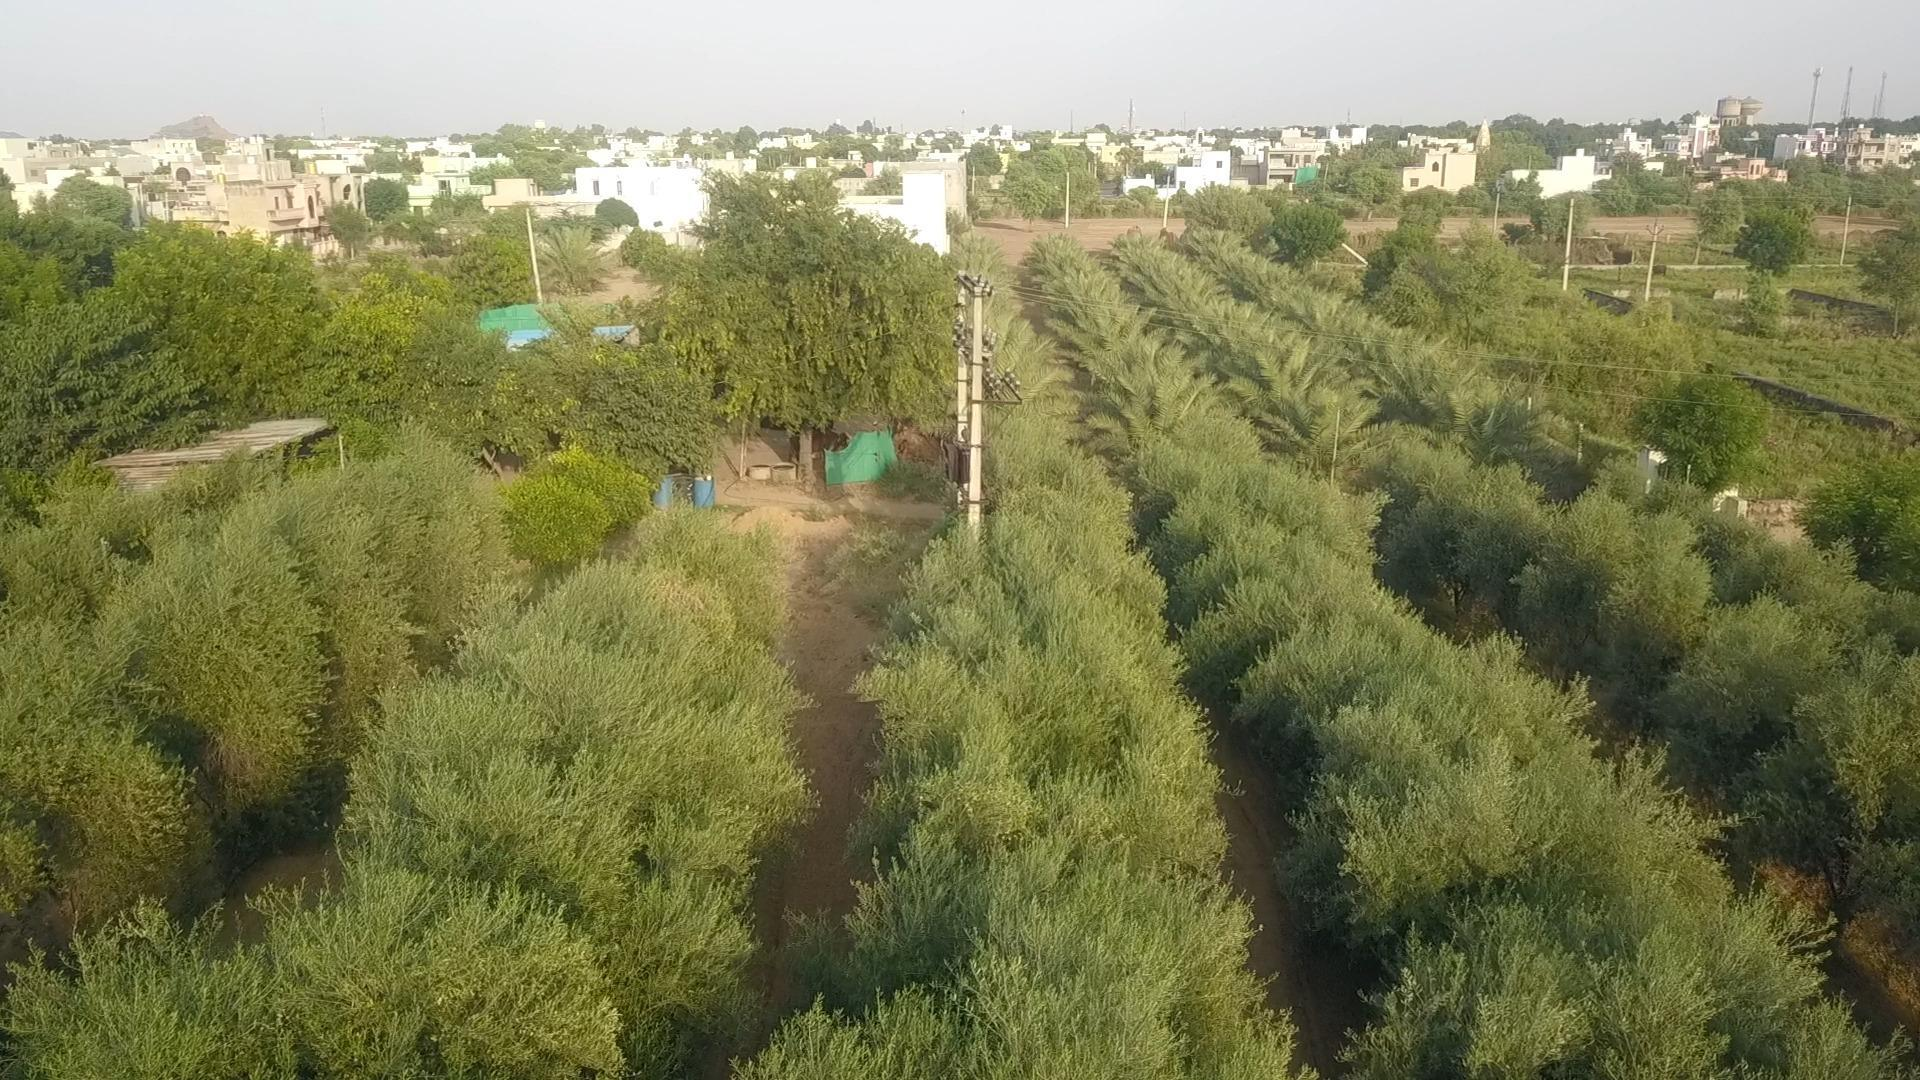canopy: (1127, 406, 1894, 1079), (0, 516, 808, 1079), (737, 417, 1291, 1079), (1367, 440, 1919, 1025), (0, 429, 509, 944)
road: (756, 520, 881, 1013), (1212, 721, 1356, 1075)
